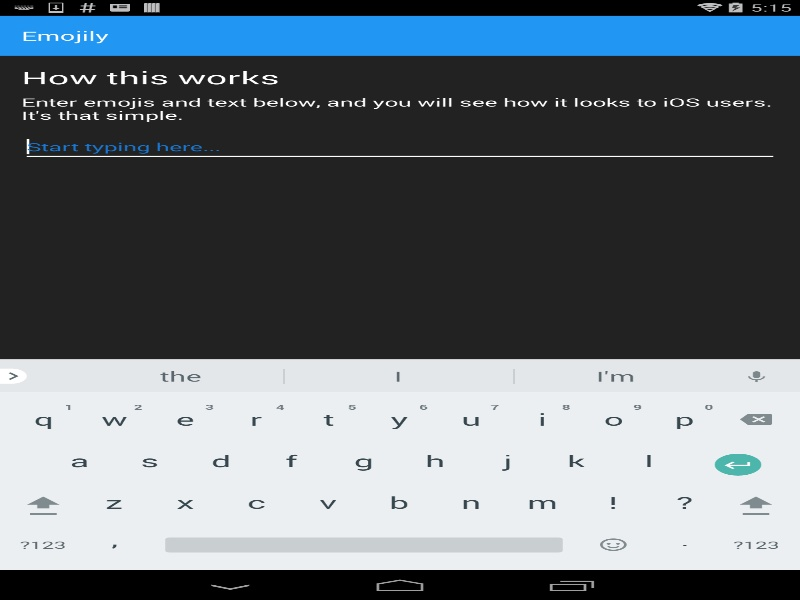Input: (21, 132, 778, 161)
